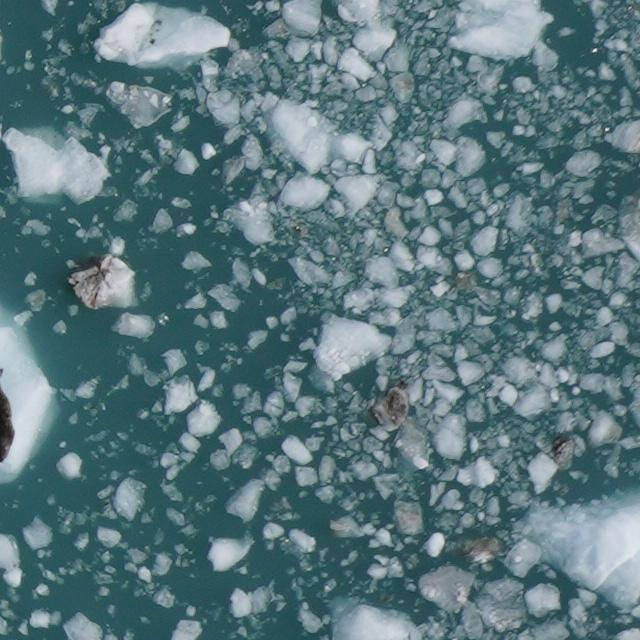seal: (0, 386, 13, 463)
